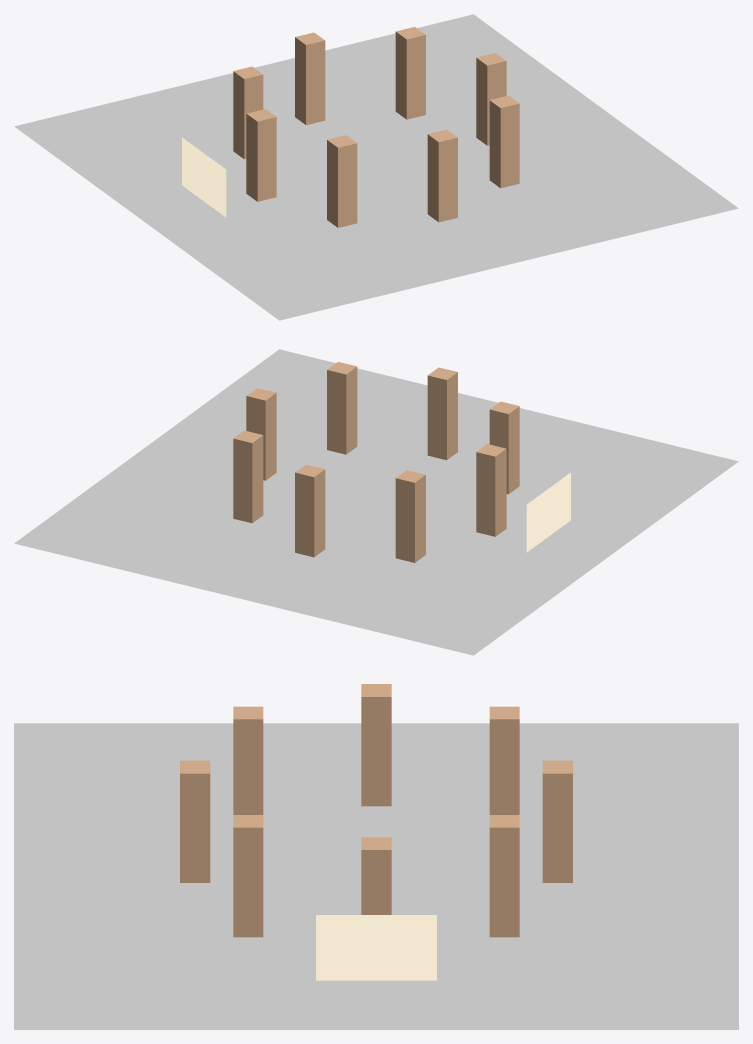
File: manylights.gltf
The picture shows the model from 3 angles, top to bottom: view 1: azimuth 30°, elevation 25°; view 2: azimuth 150°, elevation 25°; view 3: azimuth 270°, elevation 25°; orthographic projection. The views are drawn at different scales.
Bounding box in the file's own units: 12 × 2 × 12.
